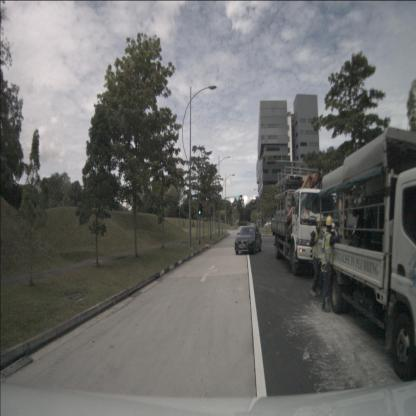vehicle-car: (235, 226, 262, 255)
vehicle-truck: (317, 126, 415, 384), (271, 162, 342, 278)
